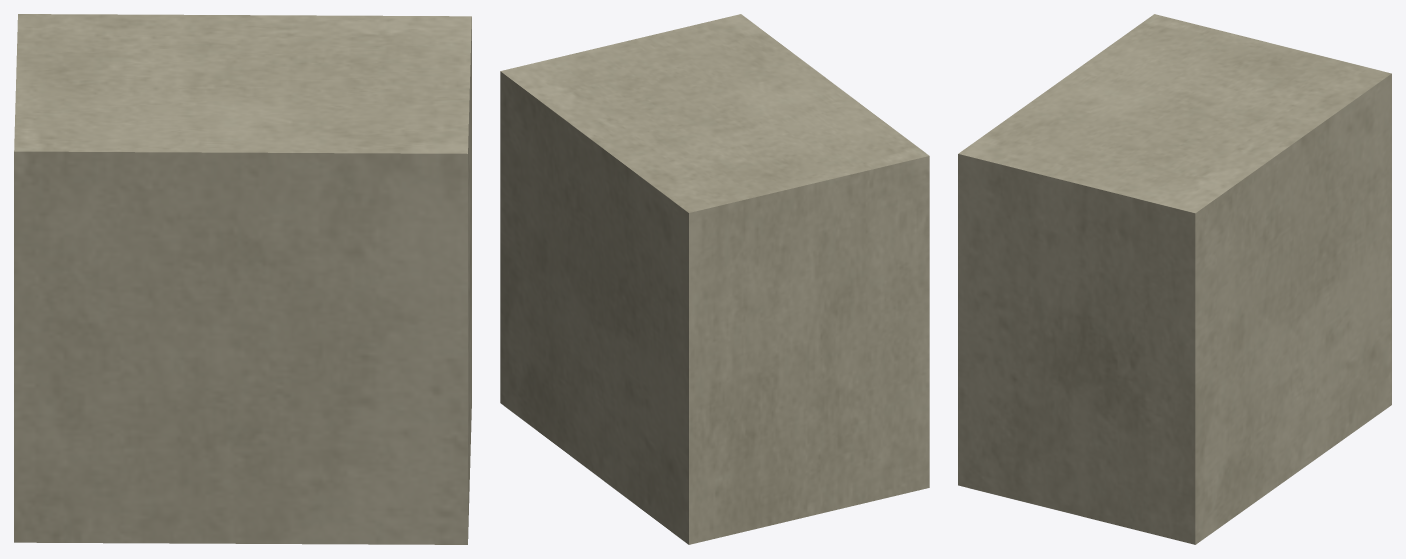
The model's file is OSDEViejo.gltf.
The picture shows the model from 3 angles, left to right: view 1: azimuth 30°, elevation 25°; view 2: azimuth 150°, elevation 25°; view 3: azimuth 270°, elevation 25°; orthographic projection. The views are drawn at different scales.
Parts seen in each view (by area): view 1: OSDE viejo; view 2: OSDE viejo; view 3: OSDE viejo.
Part boxes in pixels (x1=…): OSDE viejo: x1=14, y1=14, x2=471, y2=544; OSDE viejo: x1=500, y1=14, x2=929, y2=544; OSDE viejo: x1=958, y1=14, x2=1391, y2=544.
Size of the model in its own units: 1.02 by 0.794 by 0.9411.
1 material, 1 textured.
